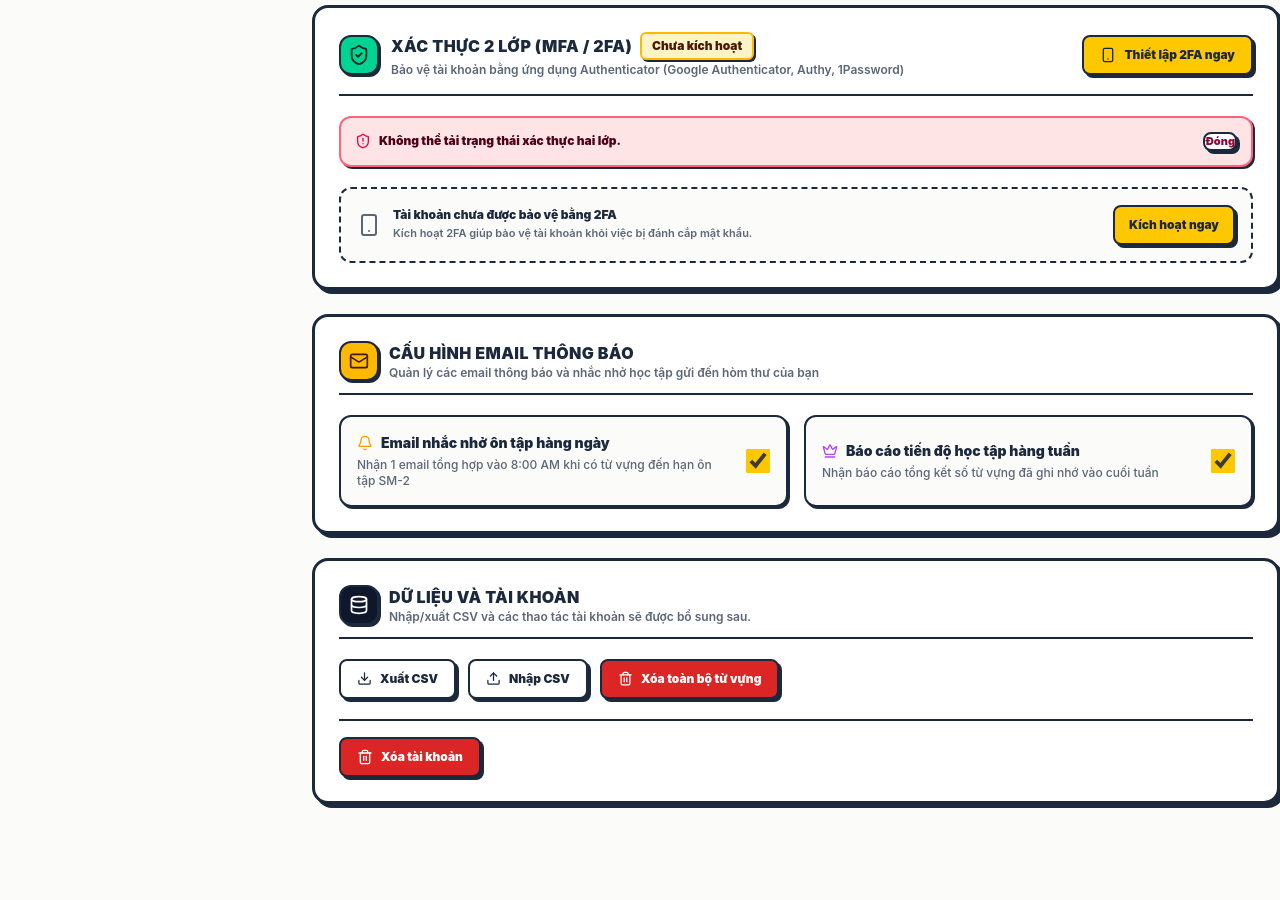
it: SettingsPage Neobrutalist UI › opens delete account modal when clicking delete button
The width and height of the screenshot is (1280, 900).
(page scrolled)
Click the button "Xóa tài khoản": [410, 757] box [339,737,481,777]
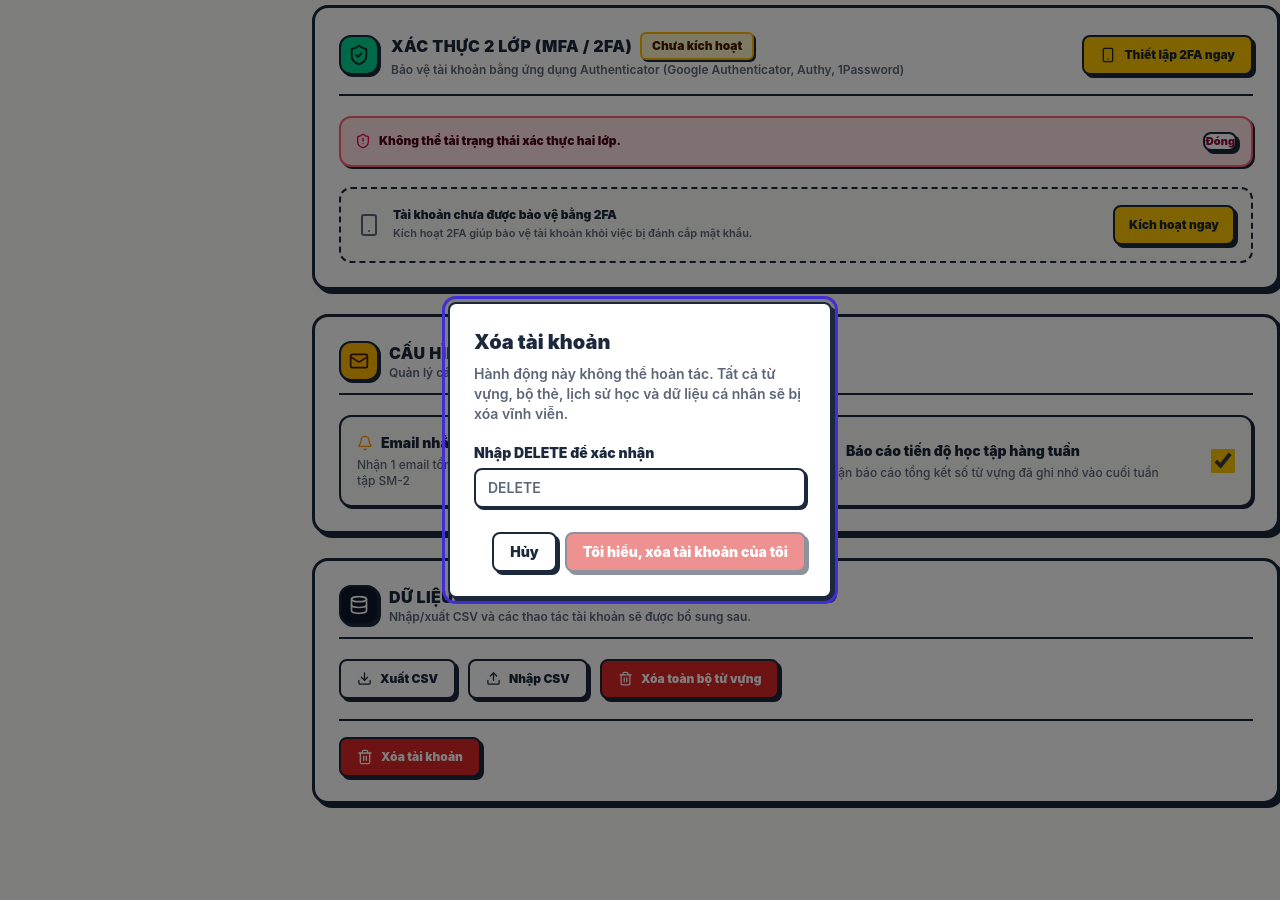
Expected: the dialog is shown, [448,302,832,598]
Expected: the field with placeholder "DELETE" is shown, [474,468,806,508]
